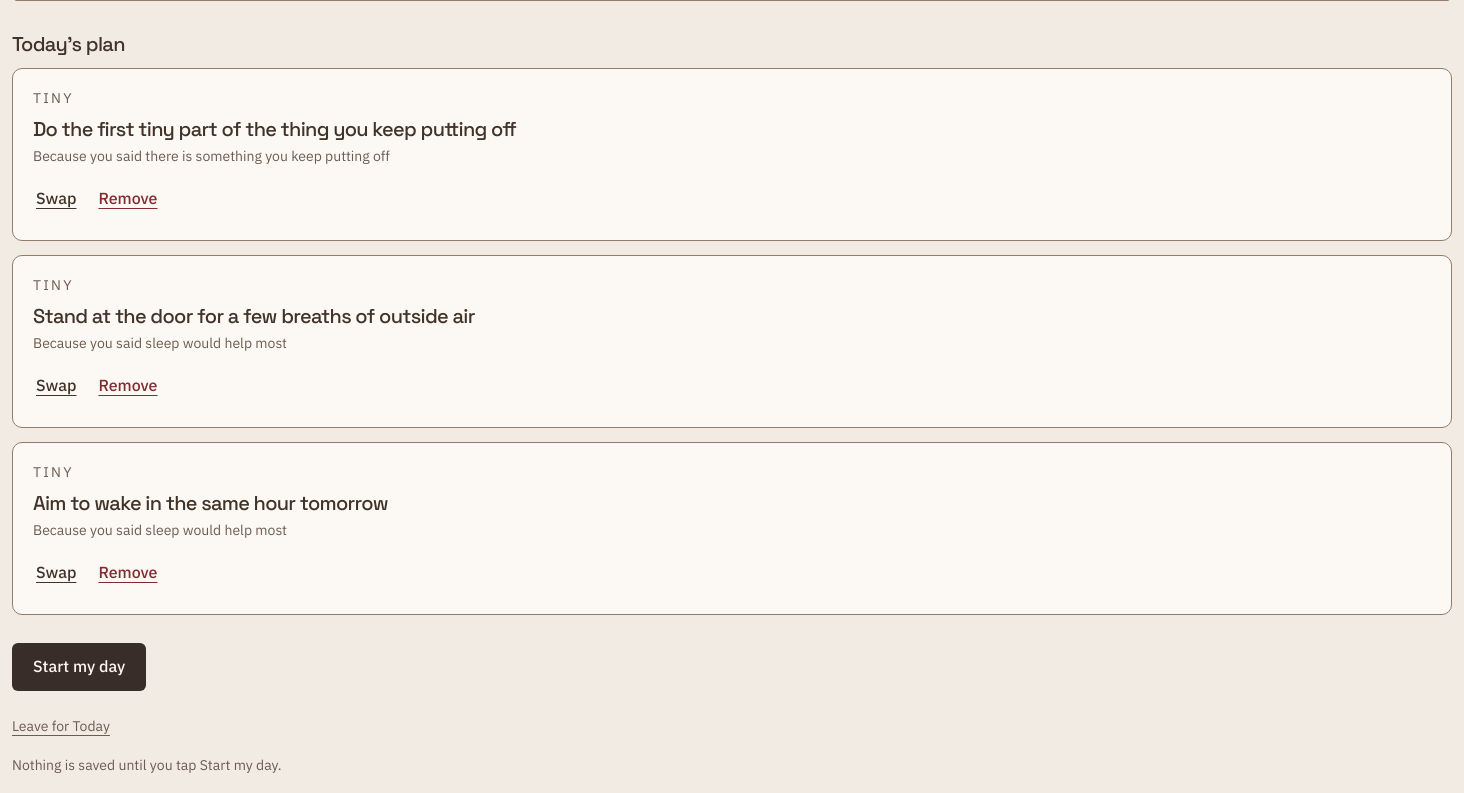
Test: keeps the draft and stays on reveal when saving fails
(page scrolled)
Click the button "Start my day": (79, 667) [12,643,146,691]
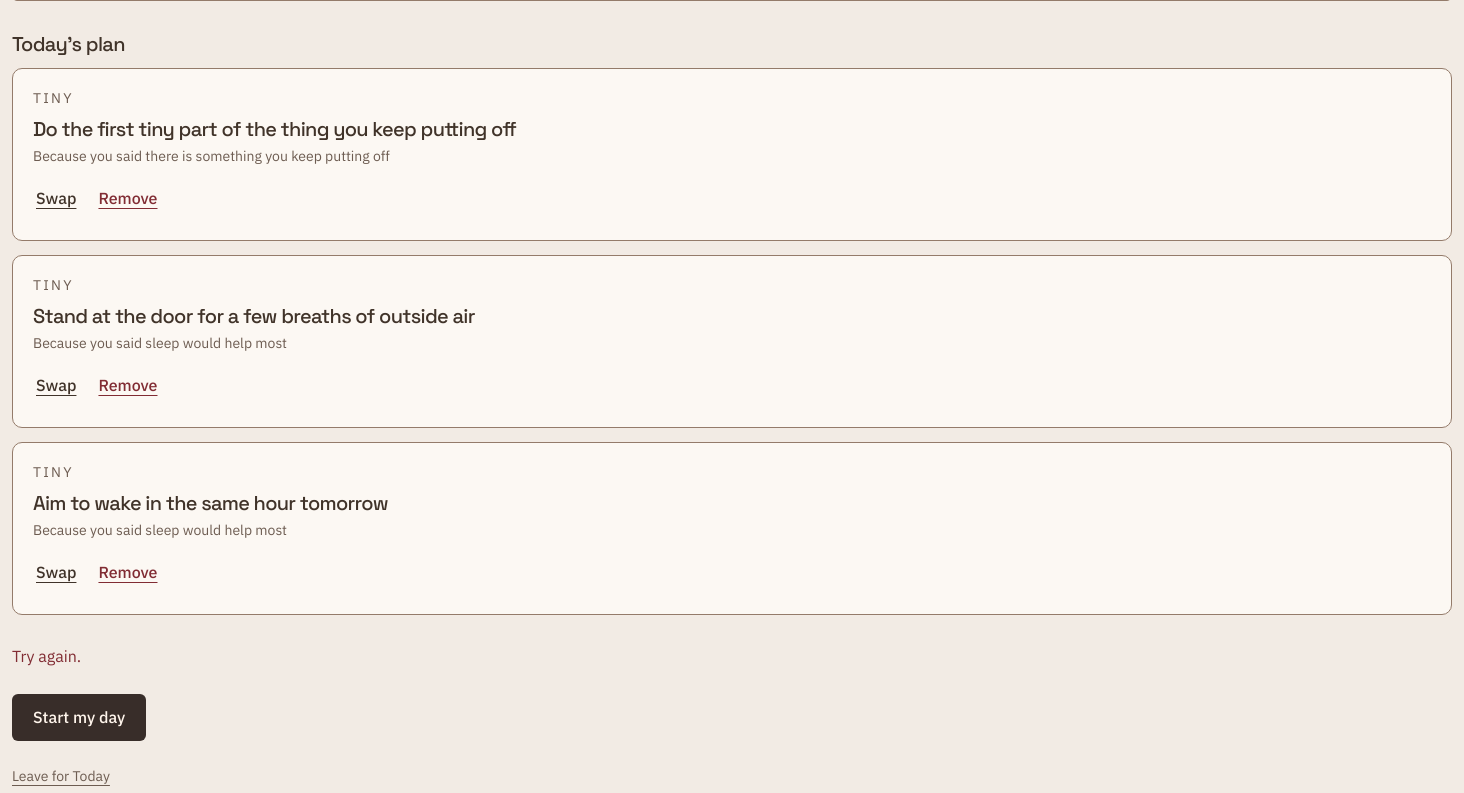
Check: the message "Try again." is shown, box [12,646,81,666]
